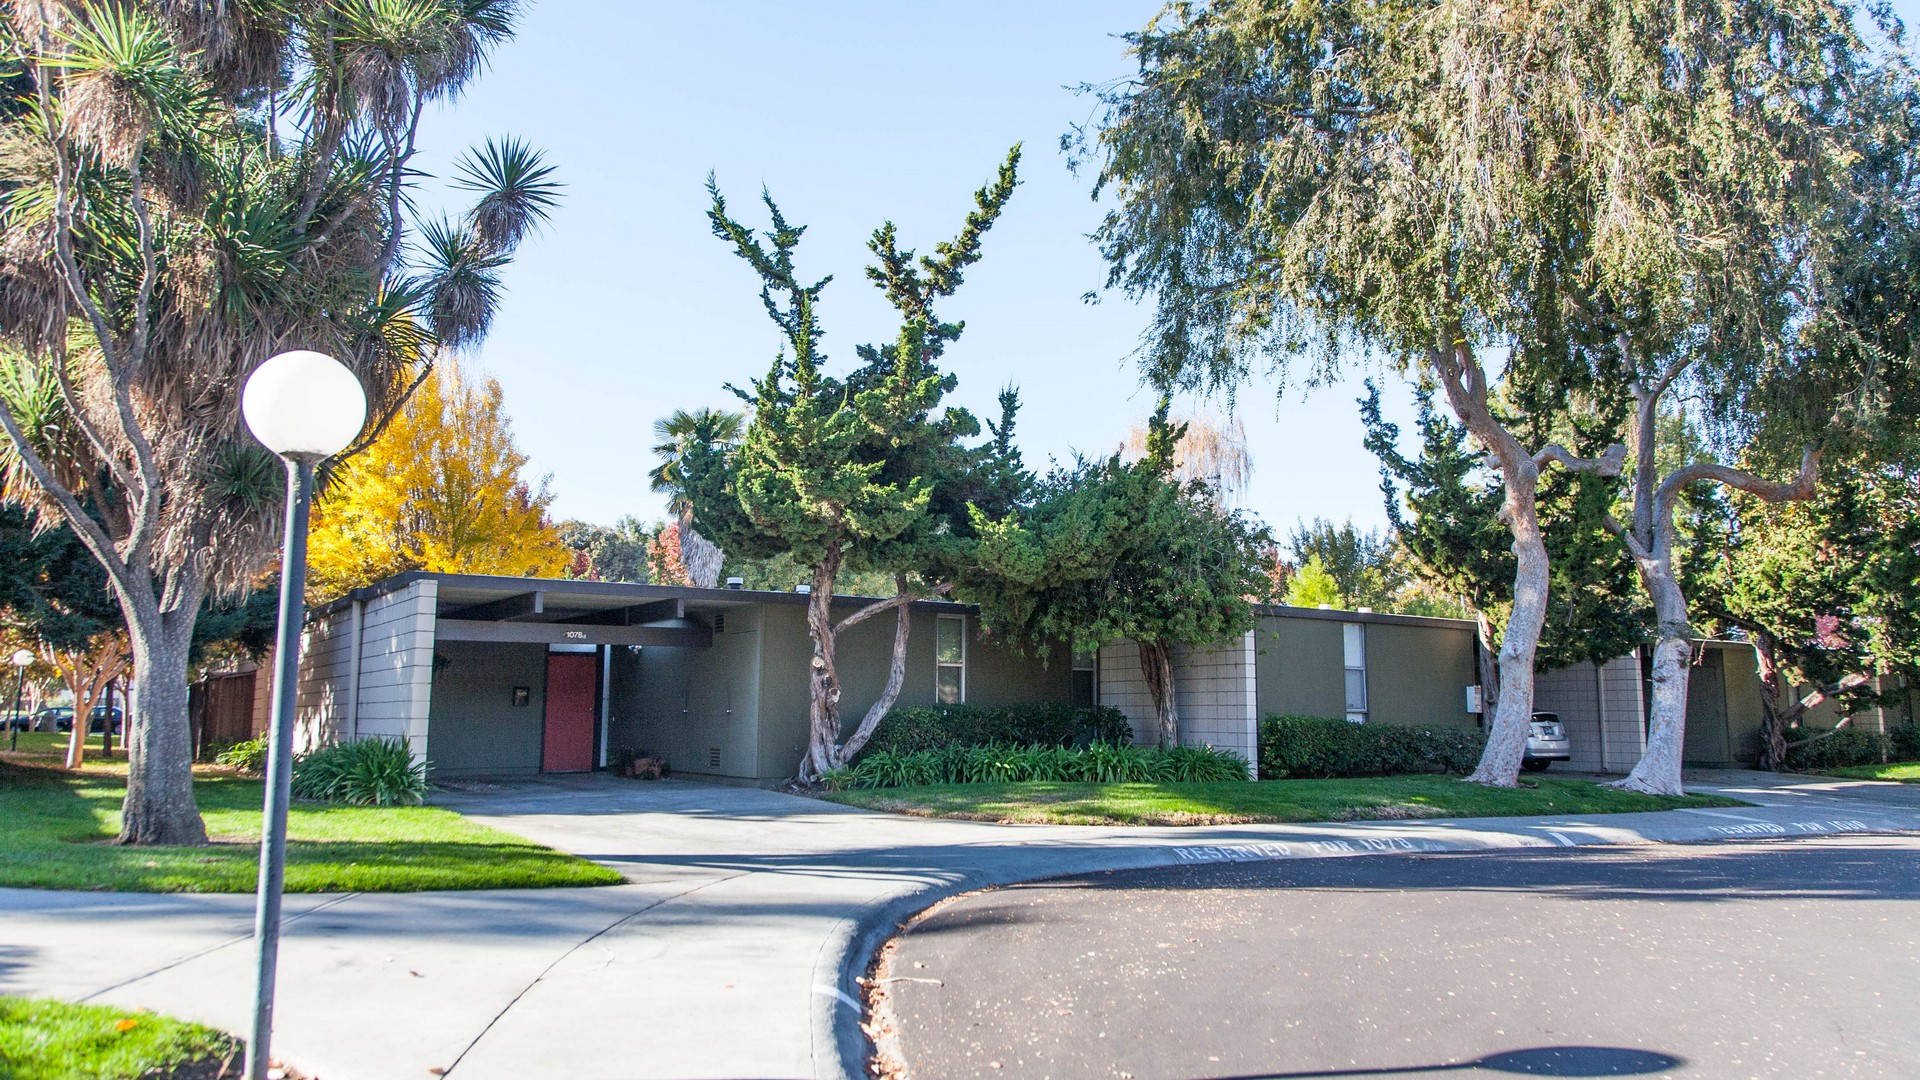tree: (1054, 1, 1917, 791), (1, 1, 568, 847), (642, 138, 1271, 789)
